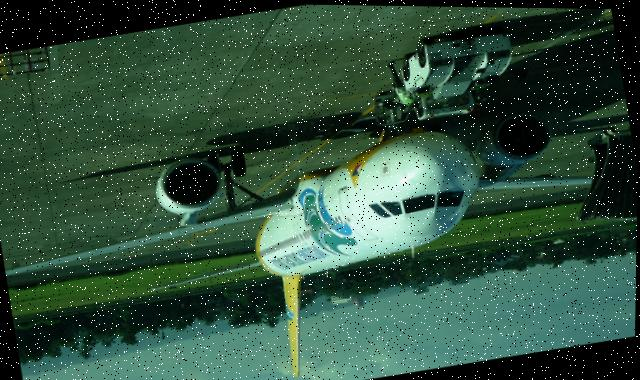car: (390, 14, 538, 122)
